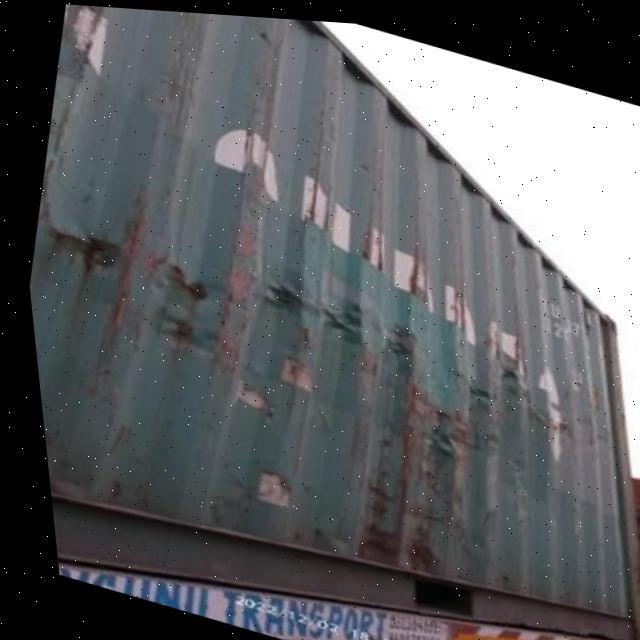rust: (150, 238, 241, 339), (355, 507, 449, 583), (348, 316, 426, 388), (390, 400, 463, 470), (54, 215, 125, 283), (261, 276, 333, 316), (456, 367, 501, 414)
